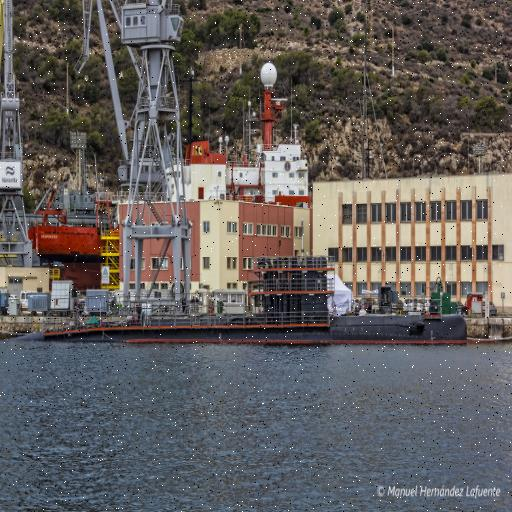submarine: (40, 257, 474, 346)
